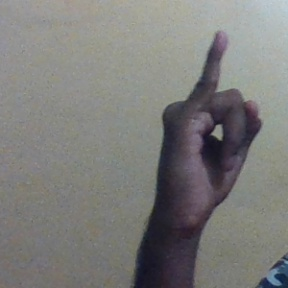I: (149, 29, 265, 225)
